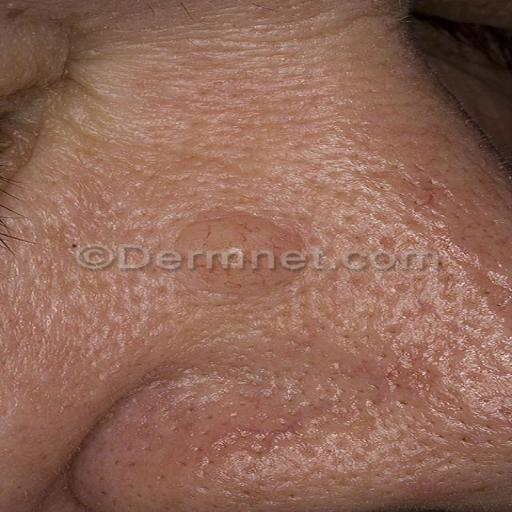Skin_Lesion: (131, 203, 317, 284), (328, 316, 471, 414), (330, 164, 476, 242), (180, 400, 286, 468), (297, 423, 409, 481)
